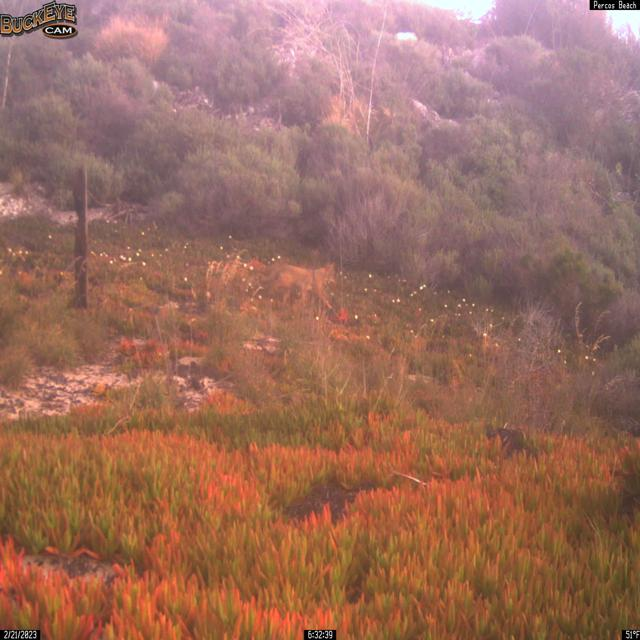coyote: (268, 261, 338, 310)
